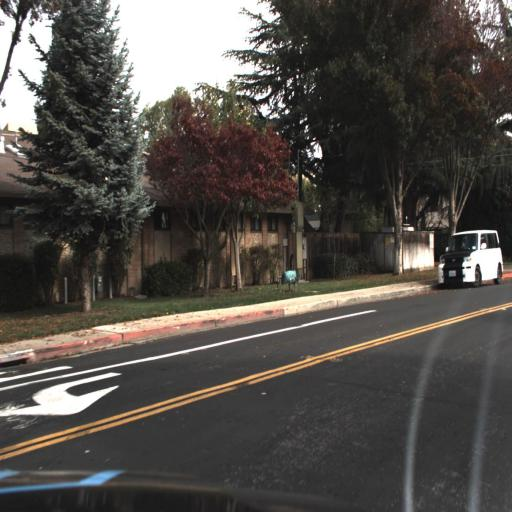car: (436, 227, 504, 289)
